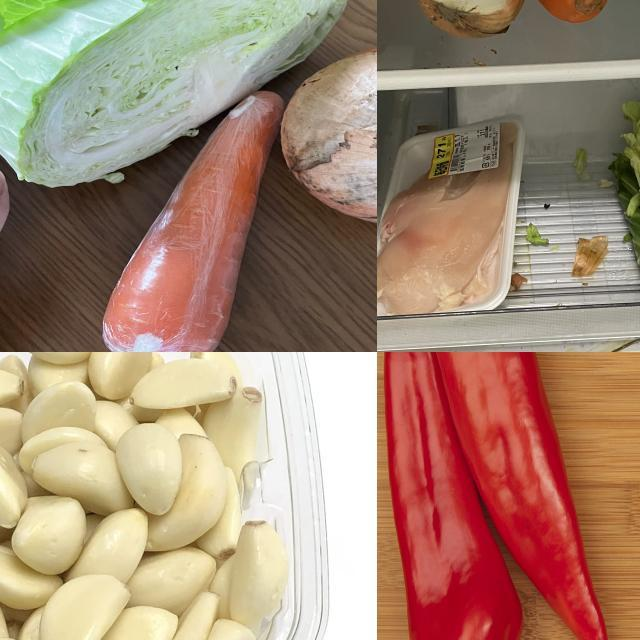cabbage: (1, 1, 355, 191)
carrot: (92, 90, 284, 353)
garlic: (1, 353, 291, 640)
onion: (275, 44, 378, 241), (411, 1, 536, 47)
